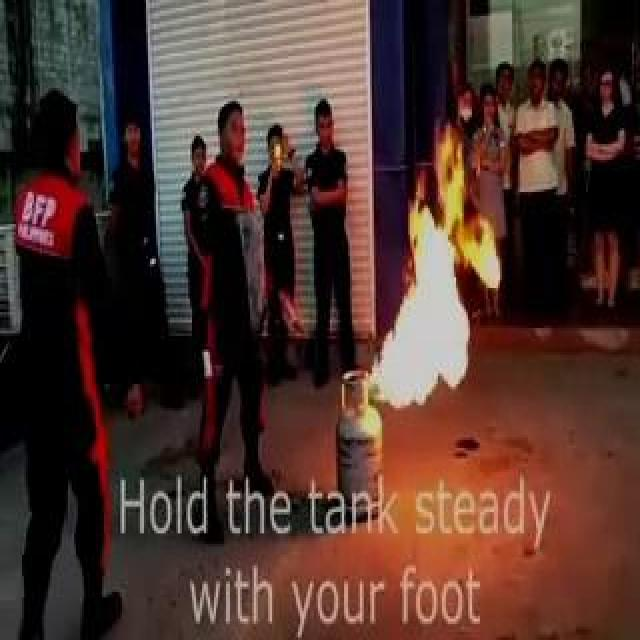Fire: (360, 133, 486, 411)
